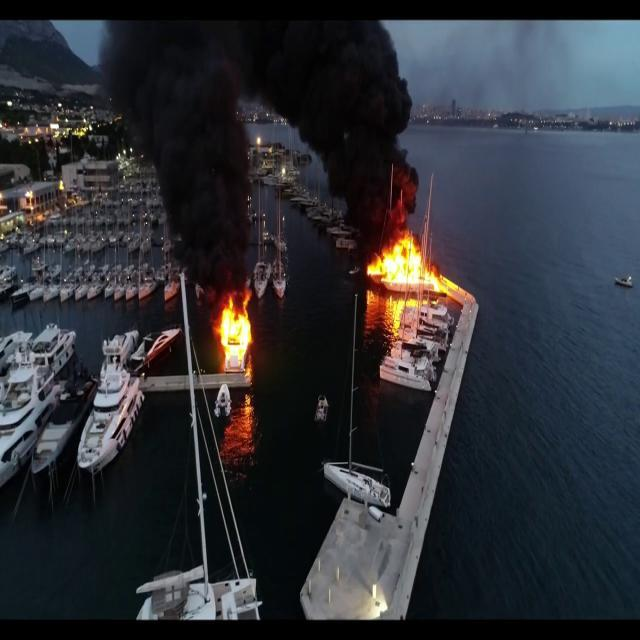Fire: (367, 228, 449, 300), (216, 286, 254, 369)
Smoke: (90, 0, 417, 238)
